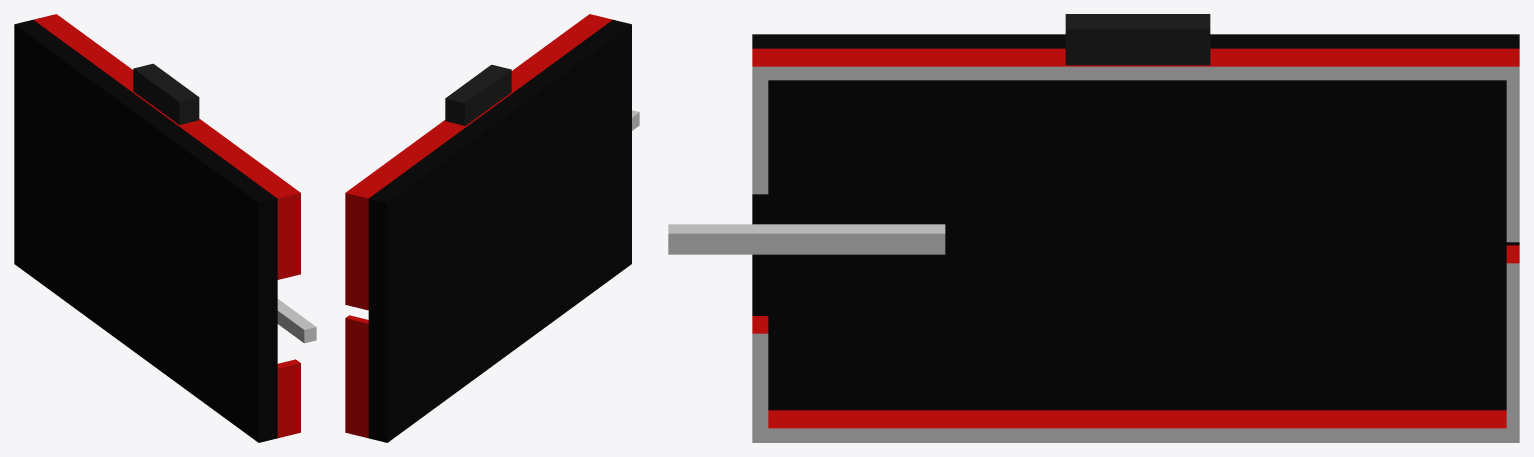
File: 18+Sign.fbx
The picture shows the model from 3 angles, left to right: view 1: azimuth 30°, elevation 25°; view 2: azimuth 150°, elevation 25°; view 3: azimuth 270°, elevation 25°; orthographic projection. The views are drawn at different scales.
Visible parts, largest first — view 1: Sign (×4); view 2: Sign (×3); view 3: Sign (×4).
Boxes of the visible parts, left/top/right/bottom form: Sign (×4): left=14, top=14, right=316, bottom=442; Sign (×3): left=345, top=14, right=631, bottom=442; Sign (×4): left=668, top=14, right=1519, bottom=442.
Bounding box in the file's own units: 45.58 × 271 × 507.
